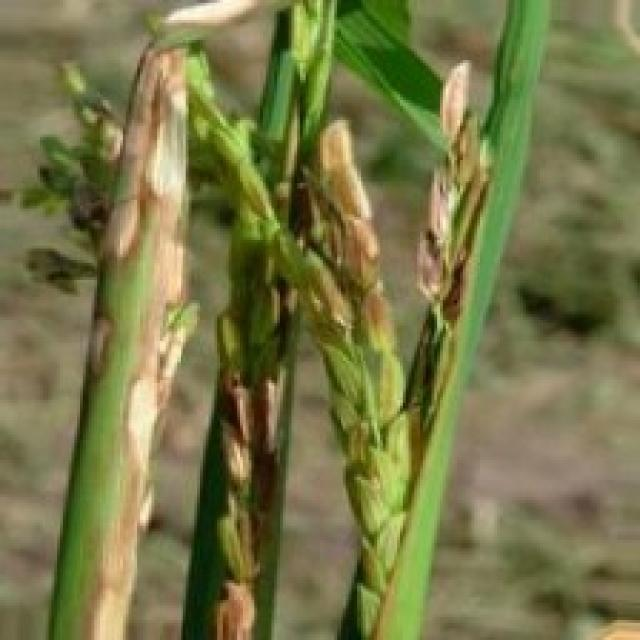Bacterial_Blight: (80, 361, 194, 640), (94, 24, 211, 267), (72, 306, 120, 380)
